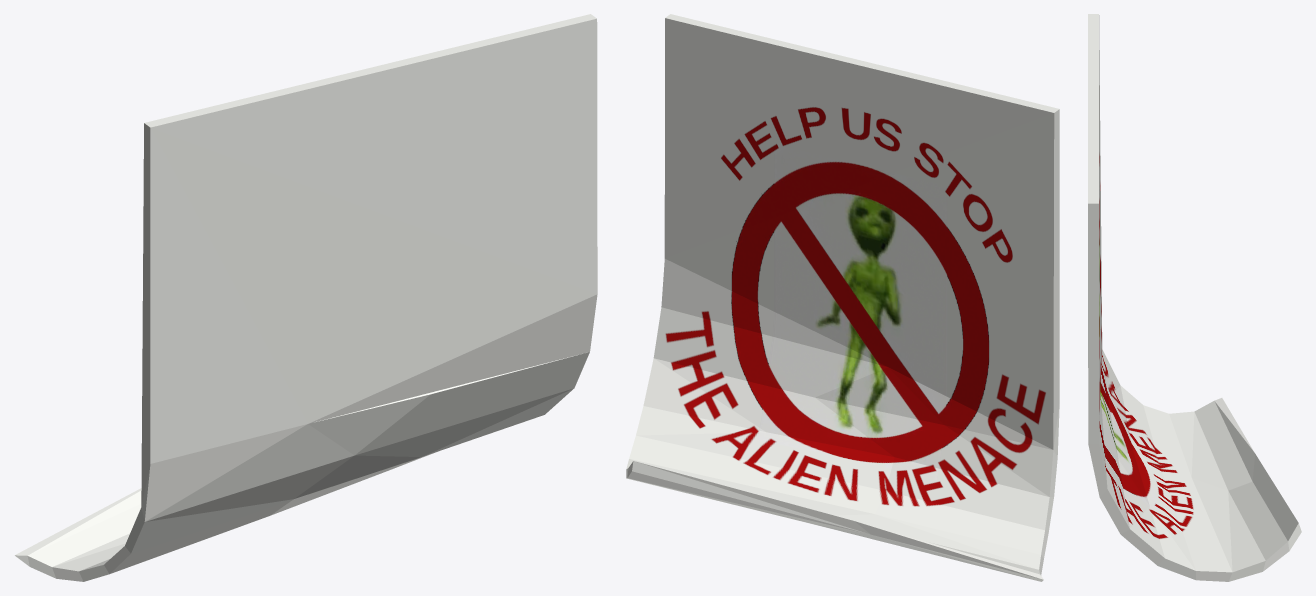
File: poster.fbx
The picture shows the model from 3 angles, left to right: view 1: azimuth 30°, elevation 25°; view 2: azimuth 150°, elevation 25°; view 3: azimuth 270°, elevation 25°; orthographic projection. The views are drawn at different scales.
Visible parts, largest first — view 1: Cube; view 2: Cube; view 3: Cube.
Boxes of the visible parts, x1,y1,x2,y2 form: Cube: [15, 14, 597, 581]; Cube: [626, 14, 1059, 581]; Cube: [1088, 14, 1301, 581].
Bounding box in the file's own units: 1.31 × 1.2 × 0.5518.
Materials: 1 (1 with a texture image).
